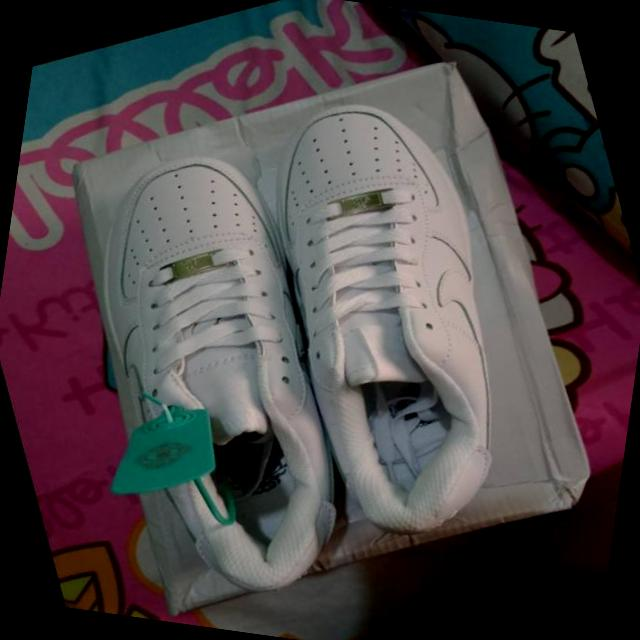nike_fake_airforce: (0, 105, 442, 640), (177, 52, 595, 575)
